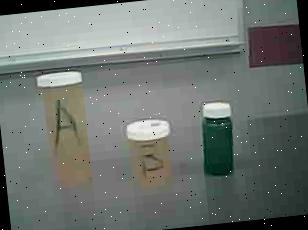Bottle A: (31, 66, 109, 190)
Bottle B: (122, 112, 180, 198)
Bottle C: (186, 95, 256, 184)
